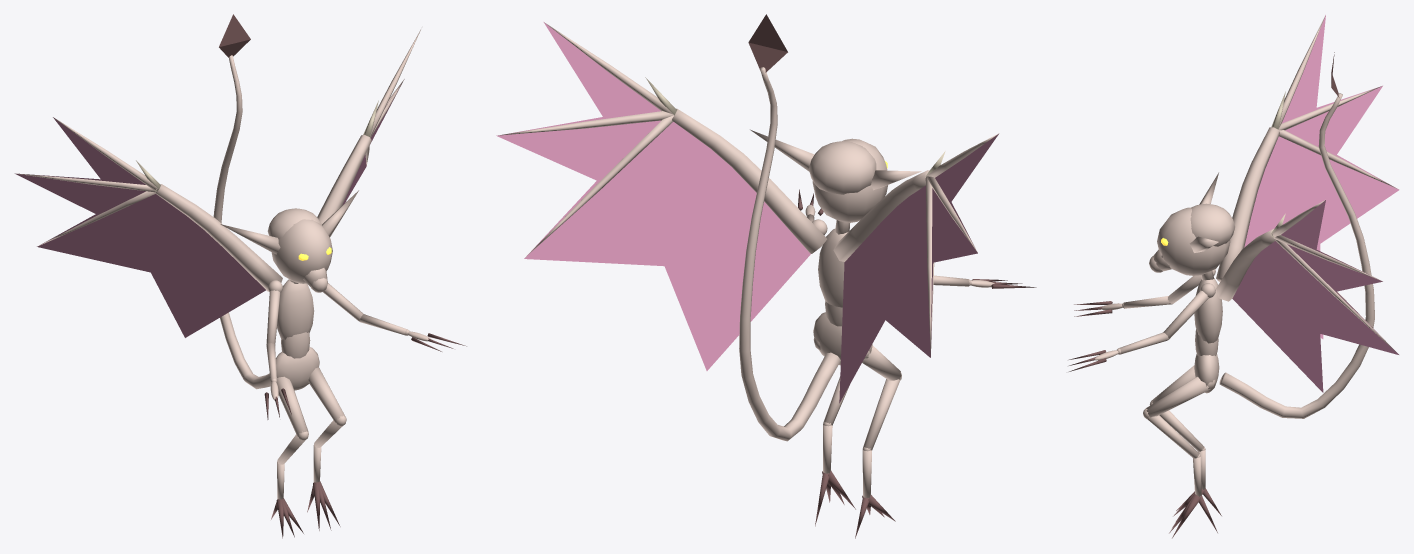
File: imp.glb
The picture shows the model from 3 angles, left to right: view 1: azimuth 30°, elevation 25°; view 2: azimuth 150°, elevation 25°; view 3: azimuth 270°, elevation 25°; orthographic projection. The views are drawn at different scales.
Parts seen in each view (by area): view 1: torso, head, tail, pelvis, thigh_R, thigh_L, upperarm_R, shin_L, shin_R, foot_L; view 2: torso, tail, head, shin_R, pelvis, shin_L, thigh_R; view 3: torso, head, tail, thigh_L, shin_L, upperarm_L, shin_R, pelvis, foot_L, forearm_L, upperarm_R, thigh_R.
Boxes of the visible parts, <box> form: torso: <box>14,29,420,358</box>; head: <box>220,190,358,292</box>; tail: <box>213,14,271,389</box>; pelvis: <box>276,347,319,390</box>; thigh_R: <box>276,376,308,440</box>; thigh_L: <box>308,367,346,426</box>; upperarm_R: <box>266,280,282,345</box>; shin_L: <box>313,420,342,482</box>; shin_R: <box>277,434,305,499</box>; foot_L: <box>307,481,340,530</box>; torso: <box>496,22,999,403</box>; tail: <box>739,14,840,441</box>; head: <box>750,129,921,222</box>; shin_R: <box>862,378,900,498</box>; pelvis: <box>813,312,872,365</box>; shin_L: <box>823,376,849,473</box>; thigh_R: <box>863,345,901,380</box>; torso: <box>1194,15,1399,392</box>; head: <box>1149,172,1234,275</box>; tail: <box>1219,52,1374,418</box>; thigh_L: <box>1143,377,1215,418</box>; shin_L: <box>1146,415,1201,496</box>; upperarm_L: <box>1163,283,1215,339</box>; shin_R: <box>1159,410,1205,489</box>; pelvis: <box>1194,354,1219,393</box>; foot_L: <box>1169,494,1217,538</box>; forearm_L: <box>1117,332,1168,354</box>; upperarm_R: <box>1168,269,1215,304</box>; thigh_R: <box>1149,365,1195,405</box>.
Size of the model in its own units: 1.45 by 1.64 by 1.04.
